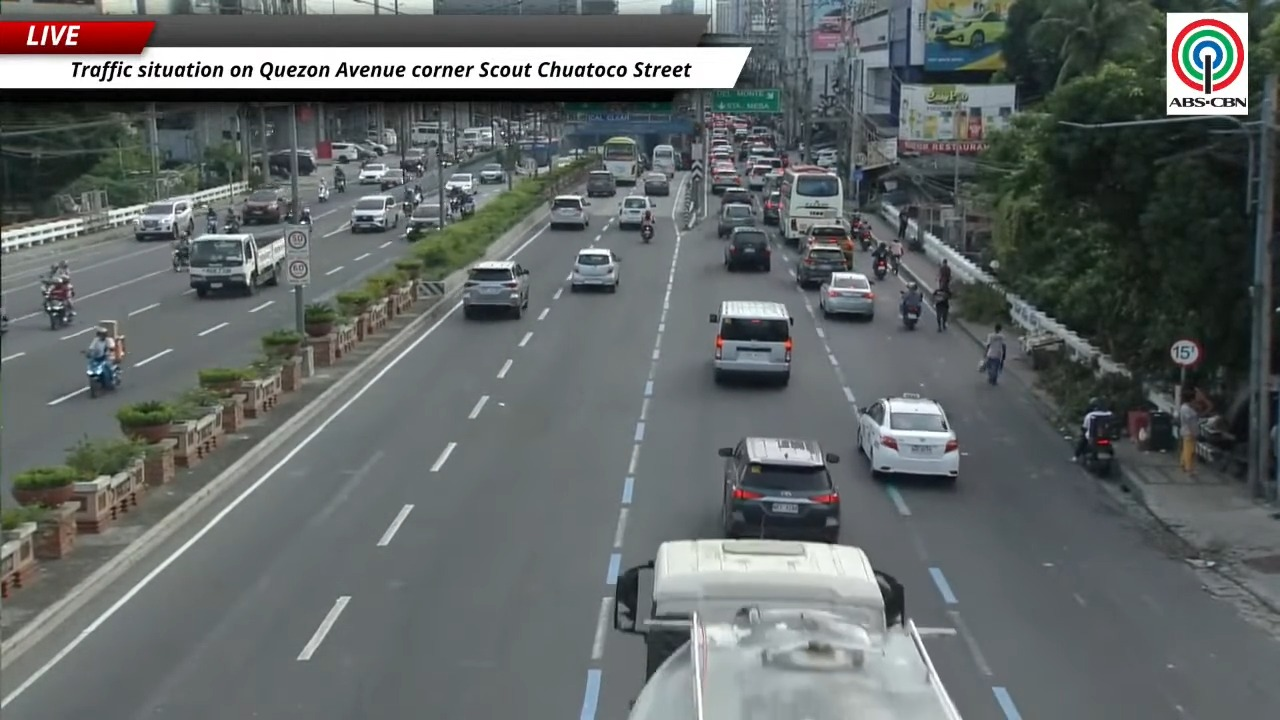bus: (779, 166, 843, 244), (601, 136, 642, 184), (651, 144, 676, 178)
car: (718, 437, 840, 543), (857, 393, 959, 482), (710, 301, 793, 385), (462, 260, 529, 318), (932, 11, 1006, 48), (819, 272, 874, 319), (134, 197, 194, 240), (800, 221, 854, 266), (795, 245, 848, 288), (570, 248, 620, 292), (724, 227, 770, 271), (350, 195, 400, 233), (241, 187, 289, 225), (406, 203, 451, 240), (549, 195, 589, 229), (717, 203, 755, 238), (268, 149, 316, 176), (618, 195, 655, 229), (721, 187, 754, 212), (586, 170, 615, 197), (711, 168, 741, 194), (400, 148, 427, 172), (330, 142, 360, 163), (358, 163, 388, 184), (747, 164, 771, 190), (445, 173, 475, 193), (644, 172, 669, 196), (762, 191, 780, 224), (380, 168, 405, 190), (479, 163, 506, 183), (352, 143, 378, 162), (363, 139, 389, 156), (815, 150, 837, 168), (710, 145, 732, 162), (712, 158, 735, 172), (553, 156, 575, 168)
motorcycle: (1078, 436, 1114, 478), (86, 355, 120, 397), (43, 295, 71, 330), (980, 358, 1001, 385), (902, 300, 921, 329), (855, 221, 873, 250), (172, 243, 189, 271), (873, 258, 887, 279), (640, 223, 653, 243), (225, 218, 241, 234), (298, 207, 311, 225), (889, 254, 900, 275), (402, 200, 415, 217), (317, 185, 329, 202), (206, 217, 218, 234), (0, 308, 8, 333), (334, 178, 345, 192)
truck: (613, 539, 961, 719), (189, 234, 285, 297)
